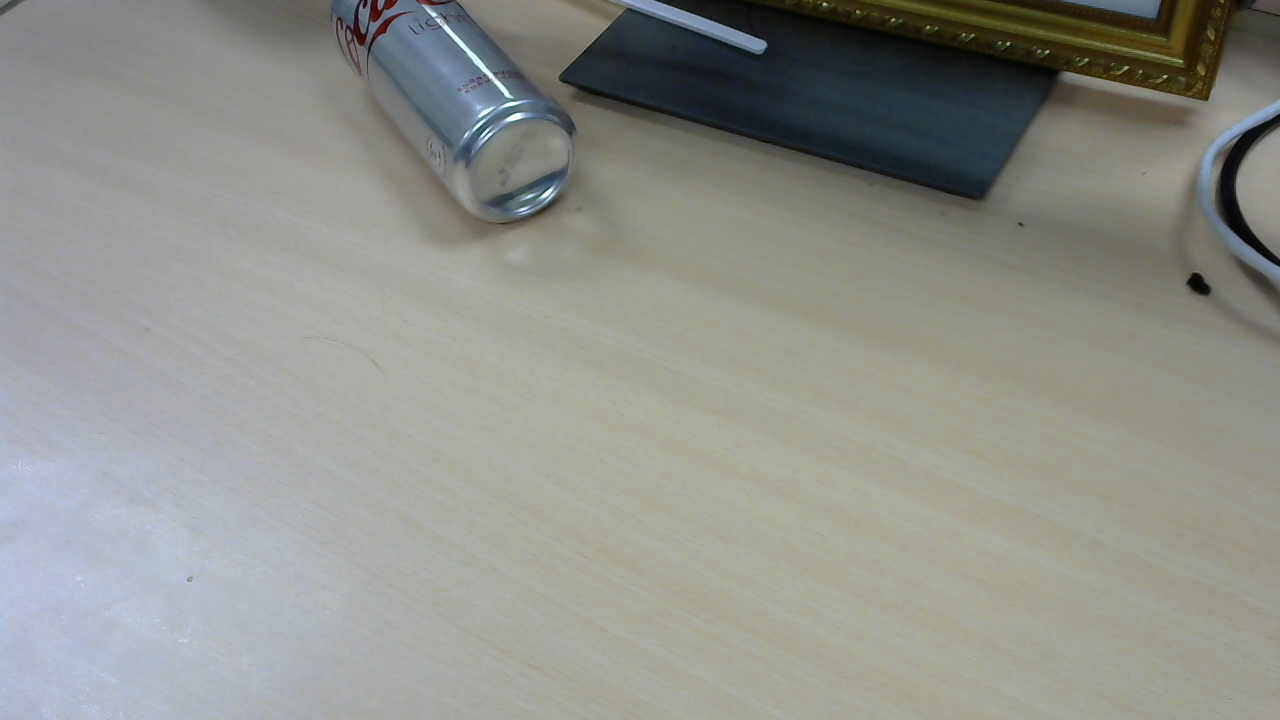Coca_Cola: (325, 5, 586, 230)
